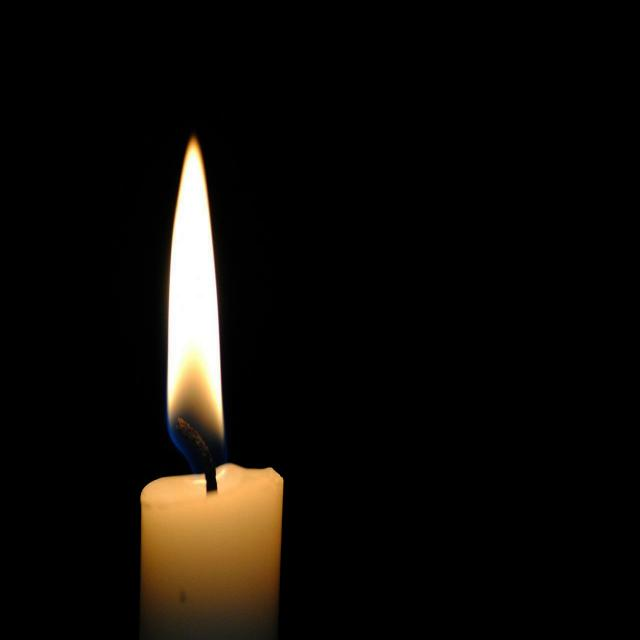Fire_Save: (138, 131, 284, 638), (164, 132, 226, 472)
